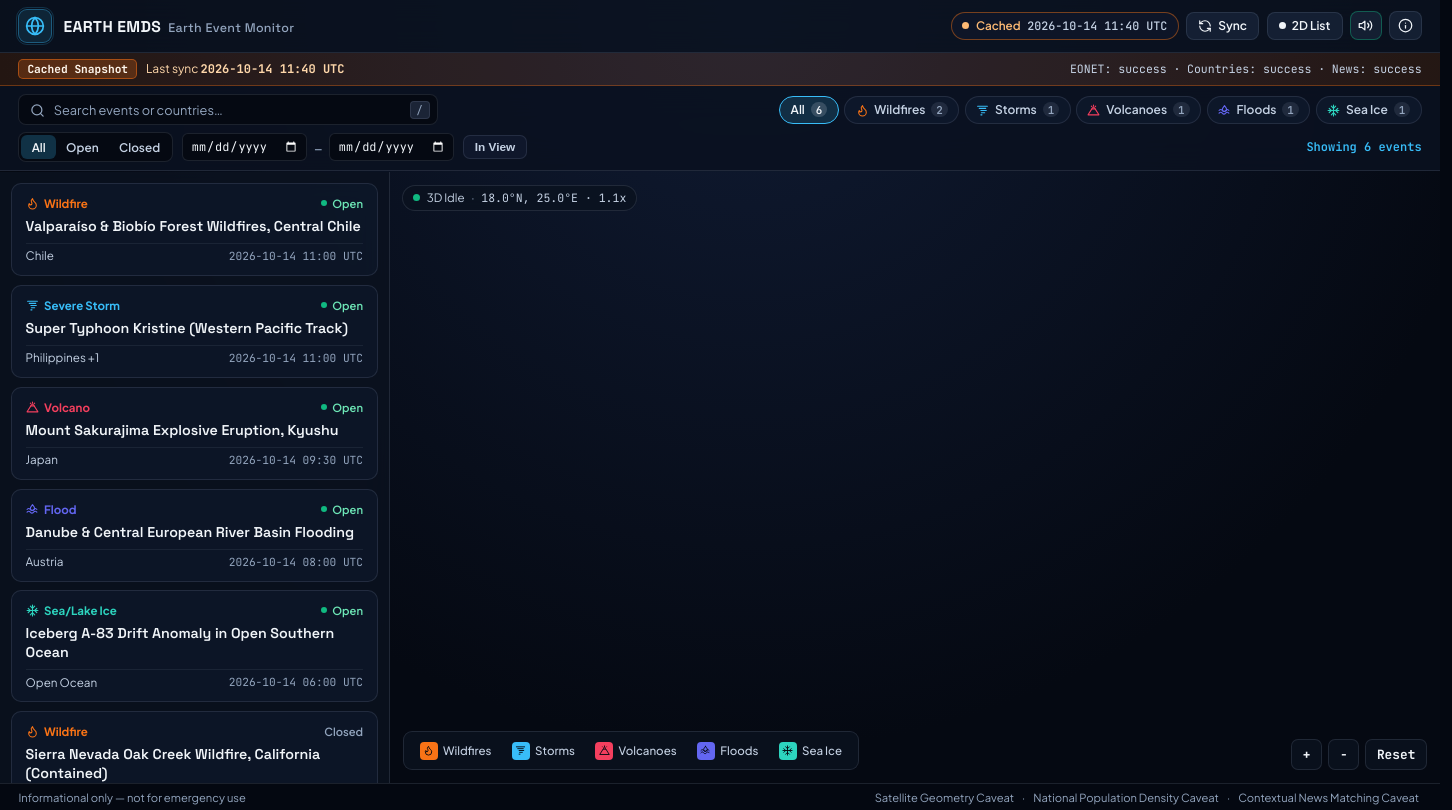
Test: EARTH EMDS Frontend Application & Components › toggles 1-Click Lite Mode (unmounting the 3D globe canvas for zero-GPU operation)
The image size is (1452, 810).
Expected: the text with test id "showing-events-count" reads "Showing 6 events", [1306,140,1422,156]
Expected: the drawing with test id "globe-canvas" is shown, [390,172,1440,783]
Step 1. Click the button with test id "lite-mode-toggle" → [1304, 26], box [1266,12,1342,40]
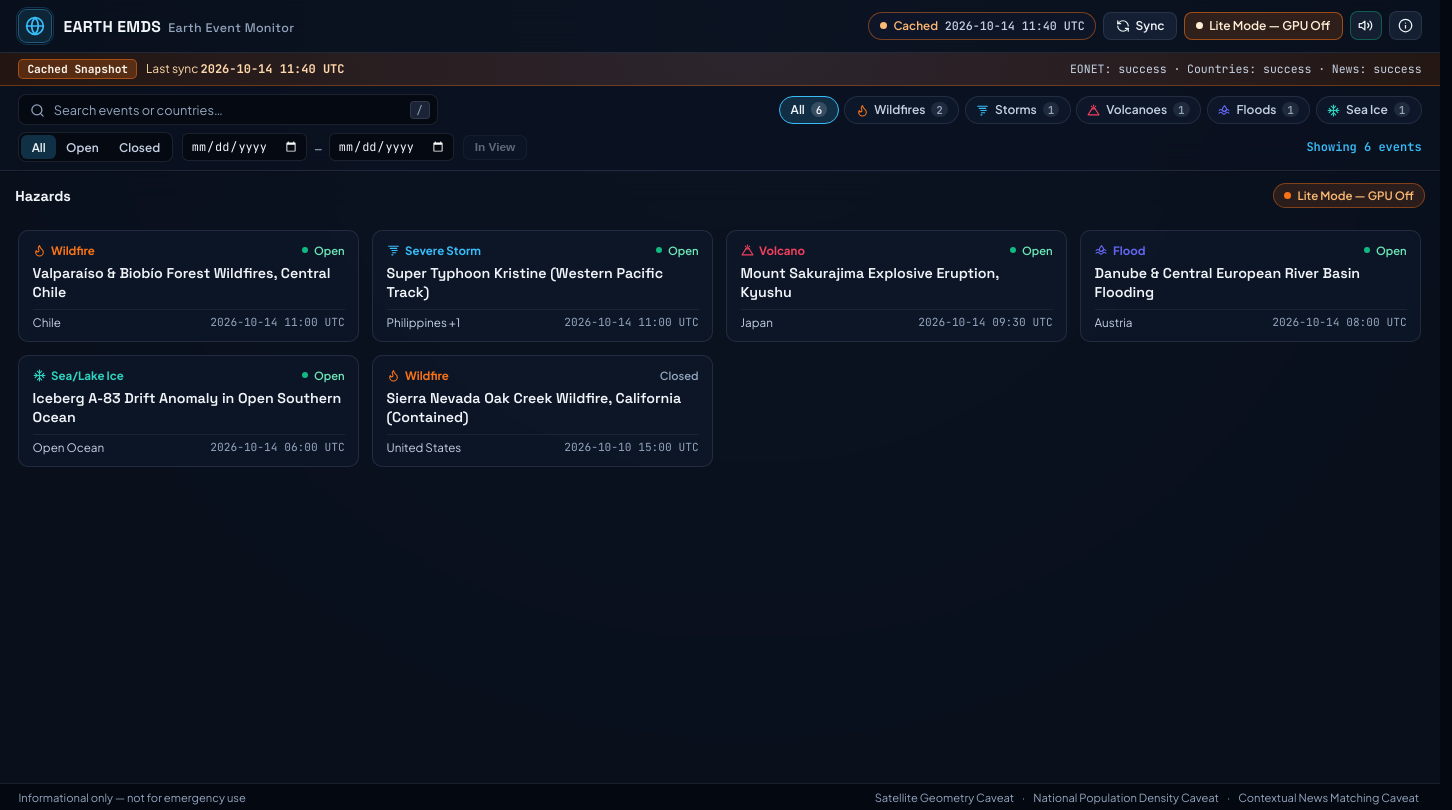
Expected: the drawing with test id "globe-canvas" is gone
Expected: the button with test id "lite-mode-toggle" reads "Lite Mode — GPU Off", [1184,12,1343,40]
Expected: the element with test id "render-mode-indicator" reads "Lite Mode — GPU Off", [1298,188,1414,203]
